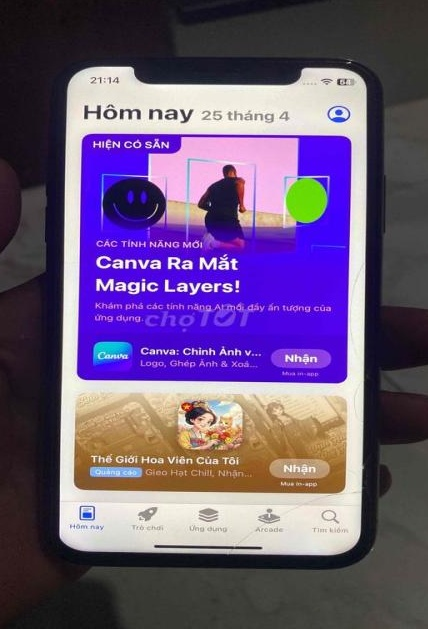physical_damage: (199, 449, 368, 558)
